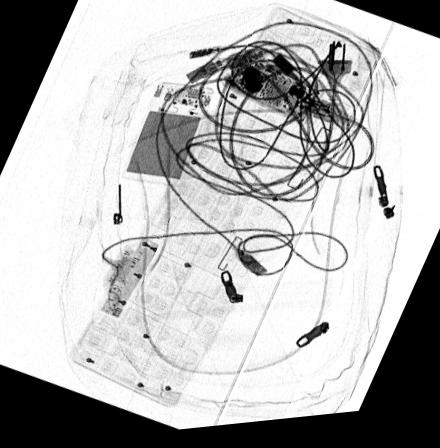Powerbank: (122, 85, 215, 188)
